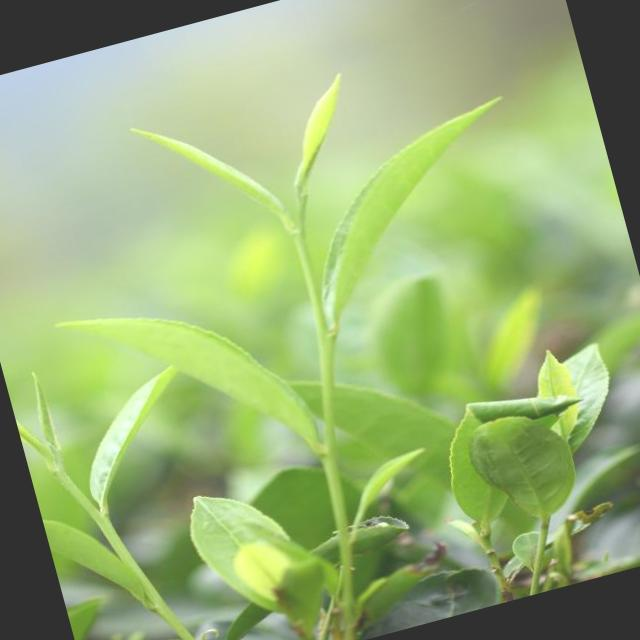Stem: (292, 230, 308, 252)
